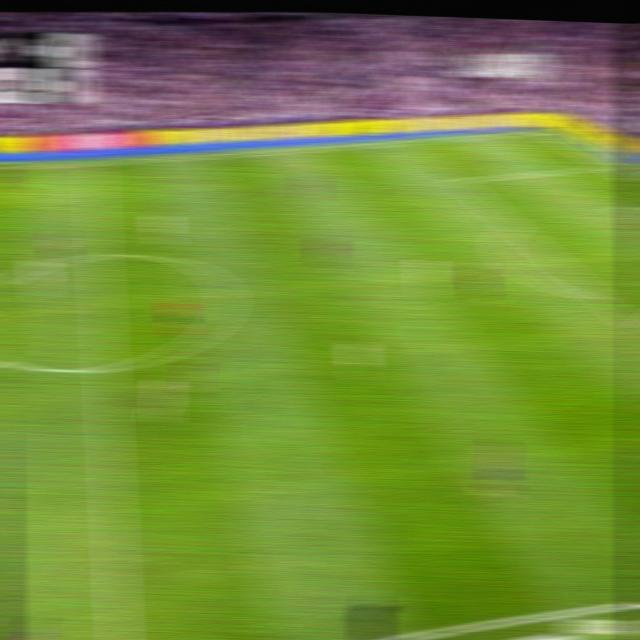bigarea_top_inner: (448, 172, 469, 188)
bigarea_top_outter: (595, 158, 616, 170)
bottom_arc_area_intersection: (587, 287, 612, 305)
halfcircle_bottom: (93, 353, 119, 381)
halfcircle_top: (87, 241, 112, 267)
midline_top_intersection: (84, 155, 105, 170)
smallarea_top_inner: (609, 200, 630, 215)
top_arc_area_intersection: (502, 217, 523, 232)
